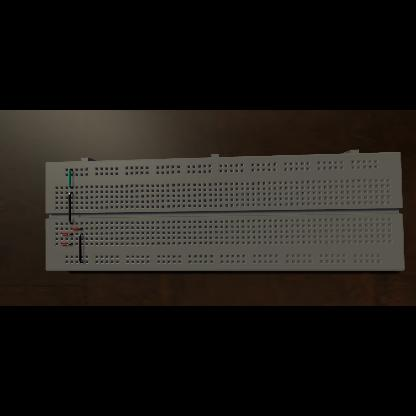breadboard: (45, 150, 404, 270)
wire: (69, 192, 73, 224), (79, 234, 83, 264), (69, 170, 73, 188), (71, 228, 83, 230), (61, 234, 73, 236), (60, 244, 72, 246)
